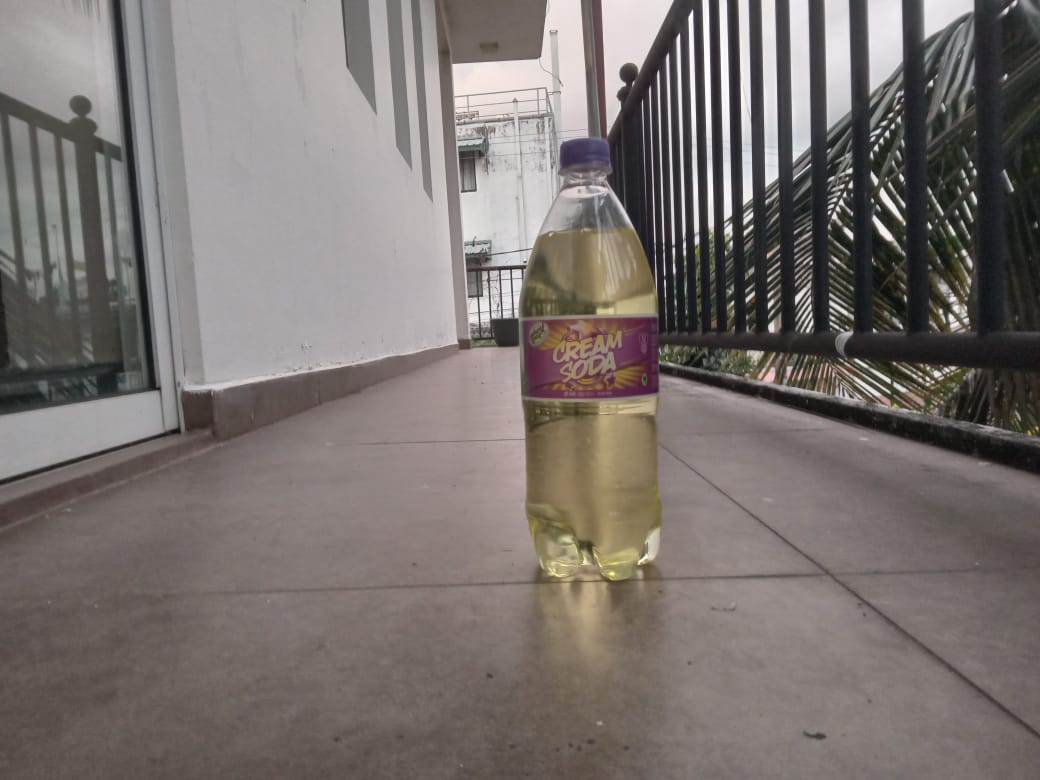M: (510, 134, 670, 603)
